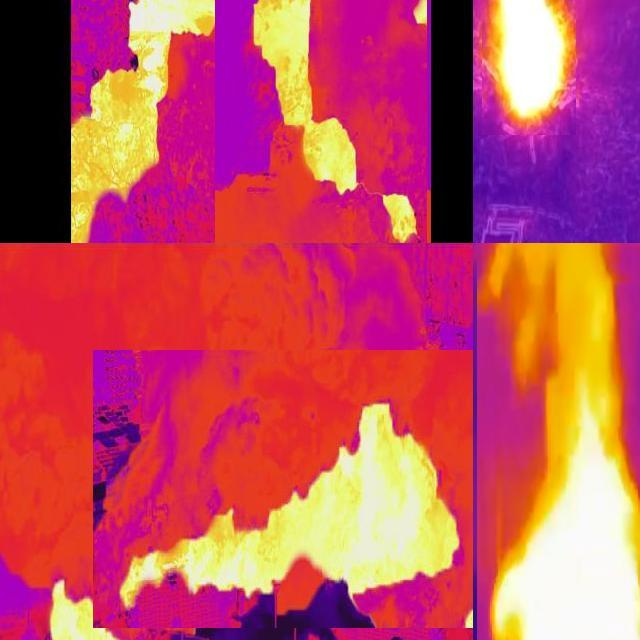fire: (118, 393, 461, 615), (252, 1, 428, 244), (71, 1, 213, 246), (513, 482, 640, 640), (486, 2, 577, 125), (52, 578, 90, 640)
